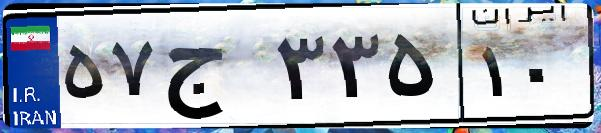0: (525, 38, 570, 115)
1: (475, 38, 525, 113)
3: (270, 28, 330, 110), (330, 28, 385, 110)
5: (385, 28, 445, 110), (57, 26, 110, 100)
7: (110, 28, 158, 98)
ج: (158, 20, 270, 120)
